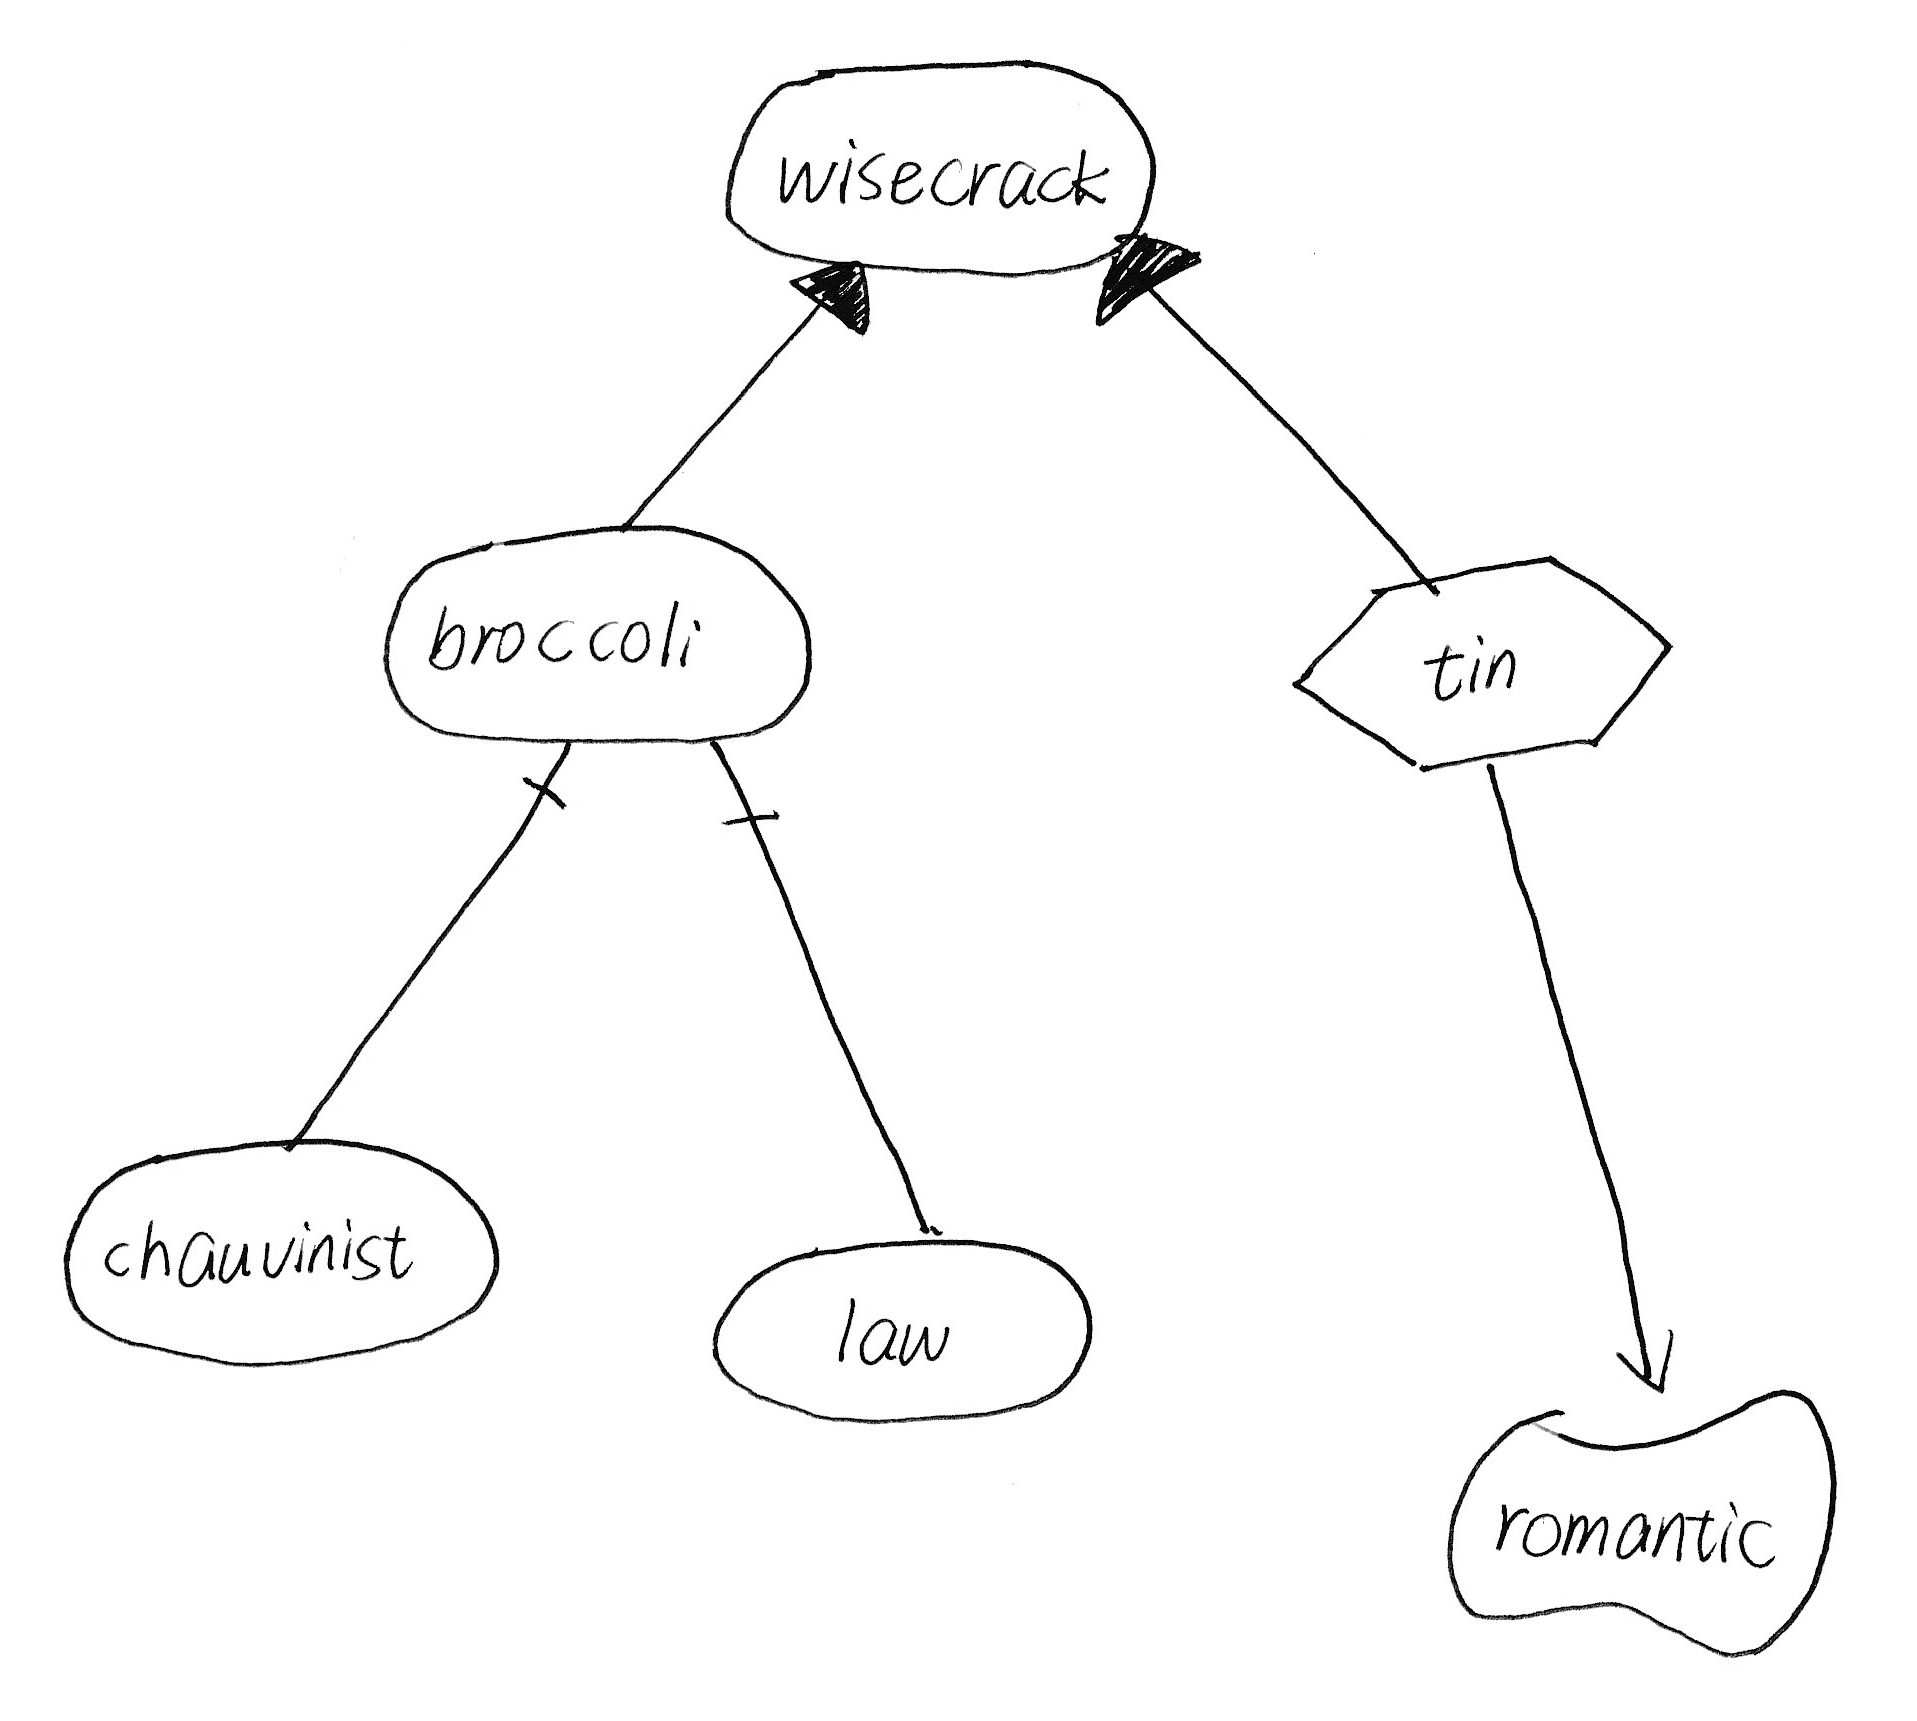and: (693, 728, 799, 849), (507, 729, 581, 821)
arrow: (1608, 1316, 1694, 1404)
goal: (365, 502, 836, 771), (47, 1121, 522, 1385), (714, 45, 1169, 301), (696, 1219, 1111, 1440)
or: (1076, 219, 1206, 331), (786, 244, 880, 346)
quality: (1425, 1369, 1861, 1679)
task: (1279, 538, 1698, 796)
